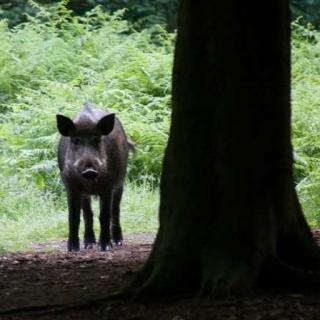Pig: (40, 91, 134, 266)
